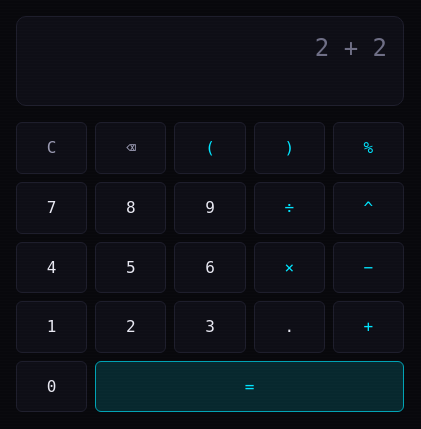
Calculator › says what is wrong rather than showing a wrong answer
The image size is (421, 429).
Type "1/0" into the field named "expression".
click(210, 48); type("1/0")  # box [33, 29, 387, 67]
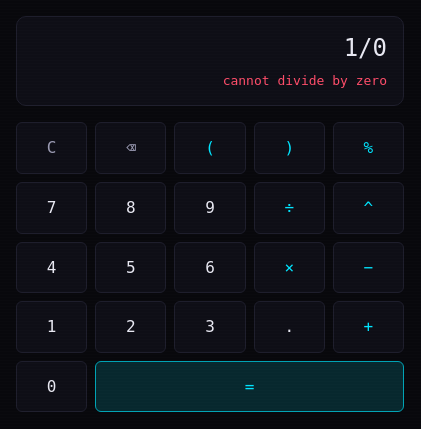
Expected: the message reads "cannot divide by zero", [223, 73, 387, 88]
